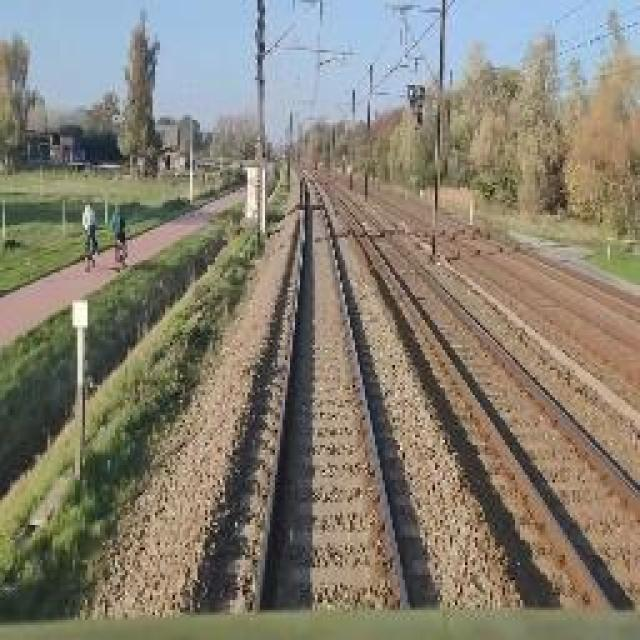rail: (196, 164, 640, 615)
